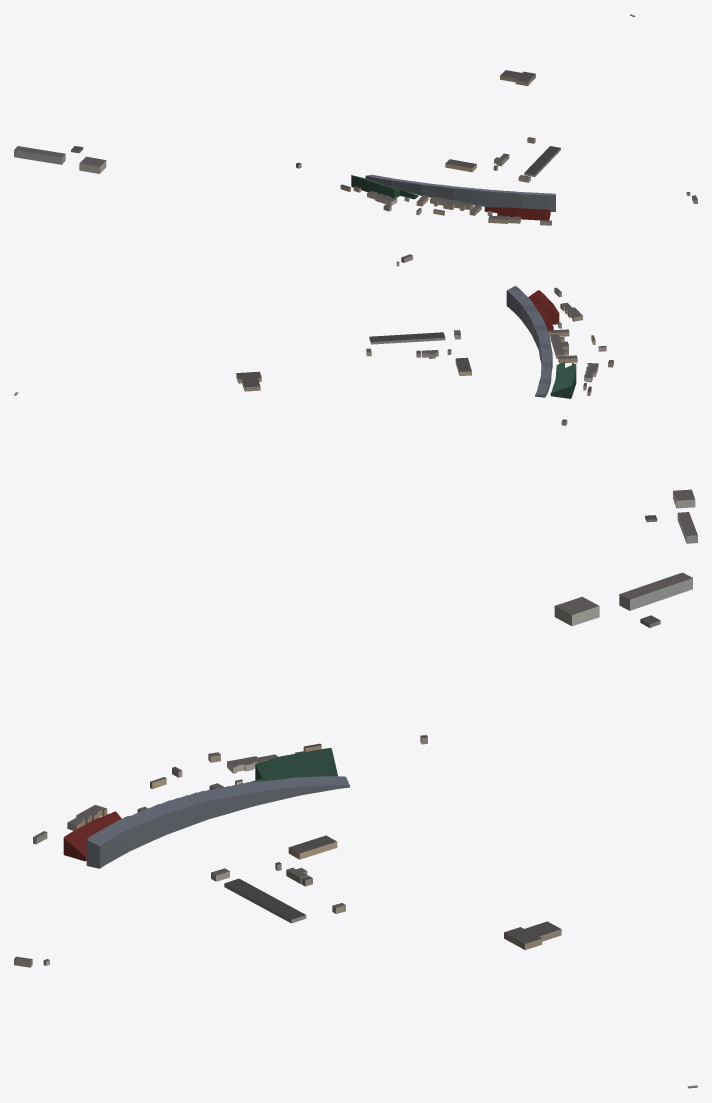
Rendered from scenery.glb.
The picture shows the model from 3 angles, top to bottom: view 1: azimuth 30°, elevation 25°; view 2: azimuth 150°, elevation 25°; view 3: azimuth 270°, elevation 25°; orthographic projection. The views are drawn at different scales.
Visible parts, largest first — view 1: chunk_14_15, chunk_15_14, chunk_14_14, chunk_15_15, chunk_13_13, chunk_13_14; view 2: chunk_14_15, chunk_15_14, chunk_14_14, chunk_15_15, chunk_13_13; view 3: chunk_14_15, chunk_15_14, chunk_14_14, chunk_15_15, chunk_13_13, chunk_13_14.
Boxes of the visible parts, x1=… form: chunk_14_15: x1=365, y1=174, x2=555, y2=215; chunk_15_14: x1=445, y1=70, x2=560, y2=182; chunk_14_14: x1=296, y1=162, x2=428, y2=206; chunk_15_15: x1=484, y1=192, x2=697, y2=225; chunk_13_13: x1=14, y1=146, x2=83, y2=164; chunk_13_14: x1=79, y1=156, x2=106, y2=173; chunk_14_15: x1=506, y1=285, x2=613, y2=397; chunk_15_14: x1=236, y1=330, x2=471, y2=391; chunk_14_14: x1=550, y1=355, x2=598, y2=425; chunk_15_15: x1=396, y1=254, x2=582, y2=332; chunk_13_13: x1=645, y1=512, x2=697, y2=543; chunk_14_15: x1=86, y1=752, x2=349, y2=868; chunk_15_14: x1=211, y1=835, x2=561, y2=949; chunk_14_14: x1=209, y1=735, x2=427, y2=789; chunk_15_15: x1=14, y1=805, x2=121, y2=967; chunk_13_13: x1=619, y1=572, x2=692, y2=627; chunk_13_14: x1=554, y1=596, x2=599, y2=626.
Size of the model in its own units: 1245 by 48.16 by 743.
